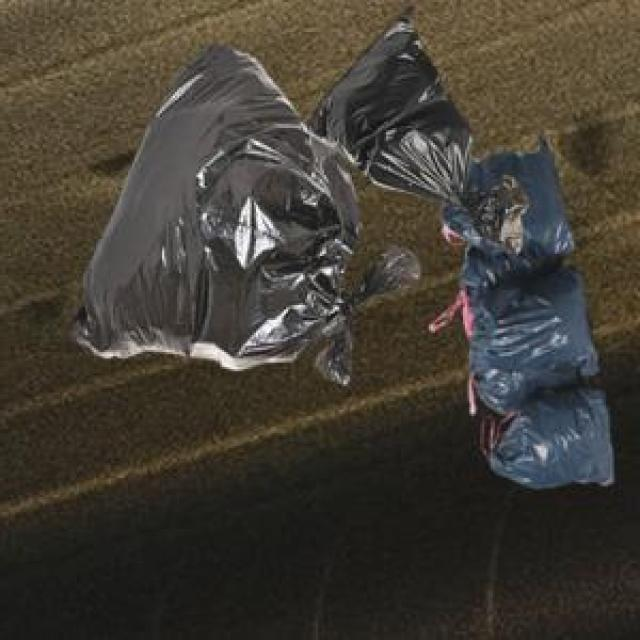Trashbag: (62, 40, 365, 374), (316, 11, 479, 206), (470, 264, 604, 385), (443, 140, 579, 259), (491, 388, 624, 497)
